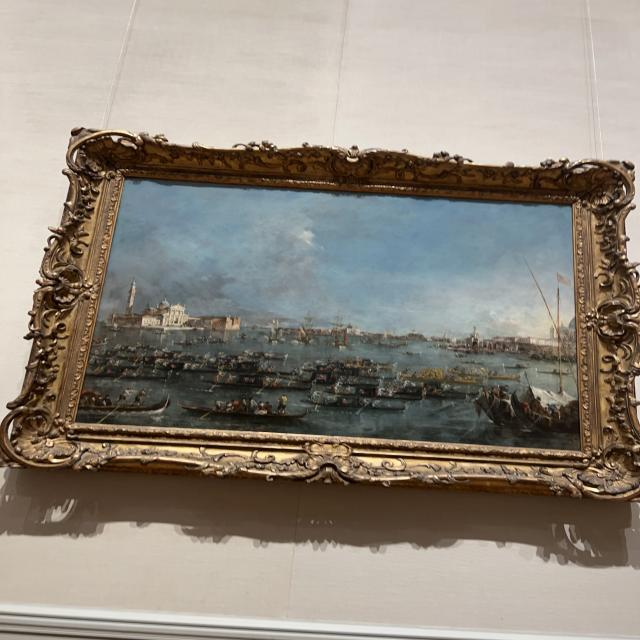ships: (74, 183, 576, 448)
